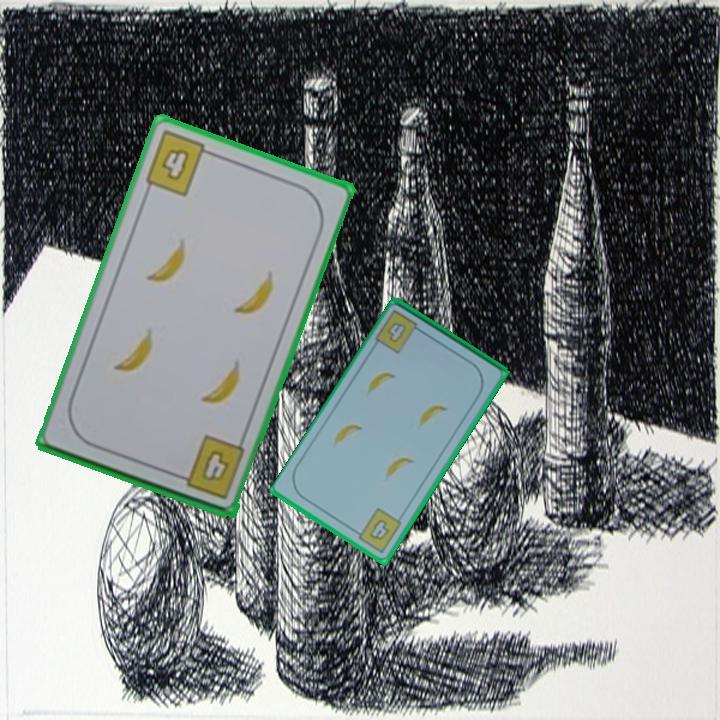4b: (141, 127, 218, 199), (171, 431, 248, 502), (350, 504, 405, 556), (372, 306, 427, 357)
